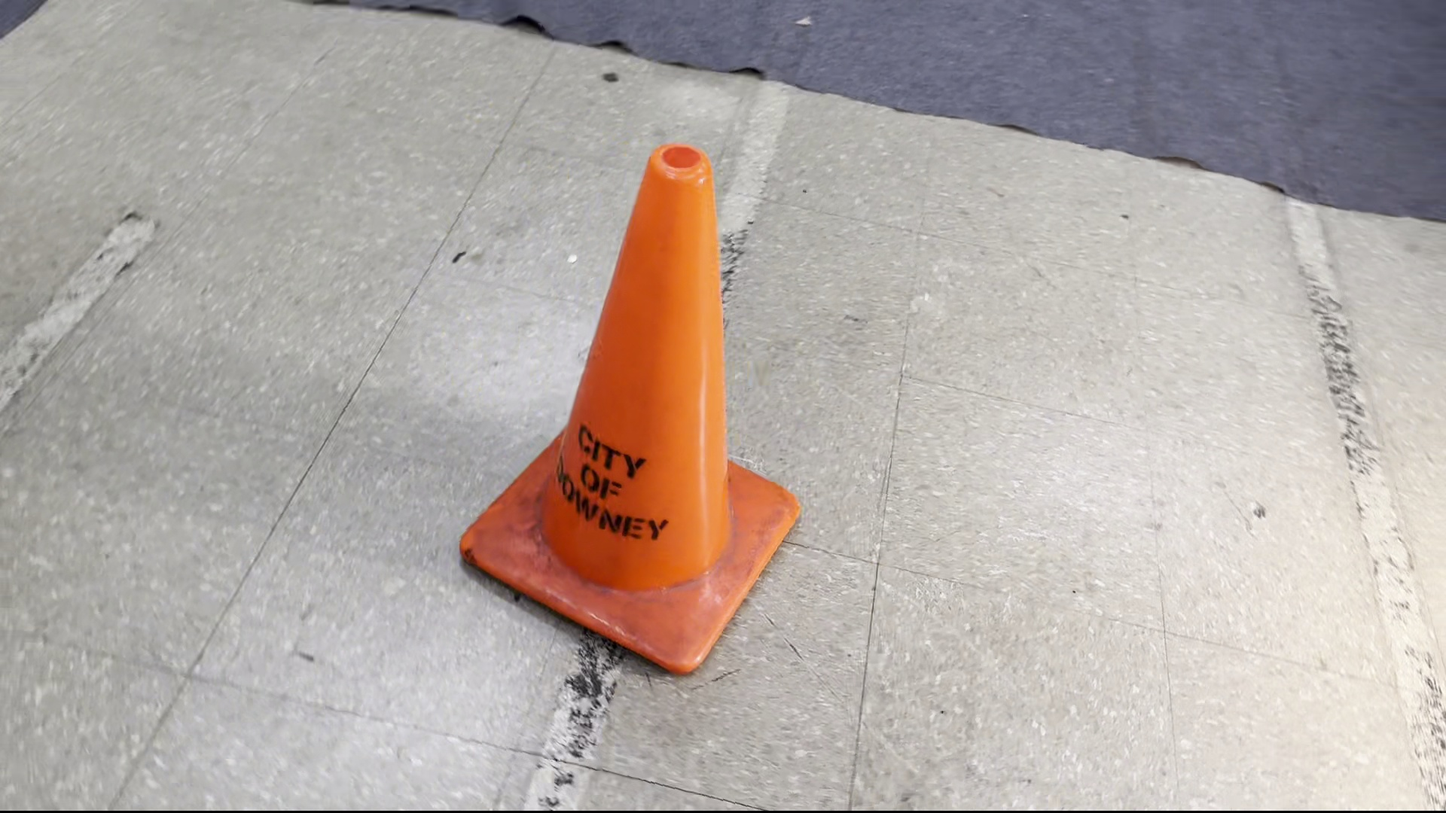traffic_cone: (458, 142, 803, 676)
